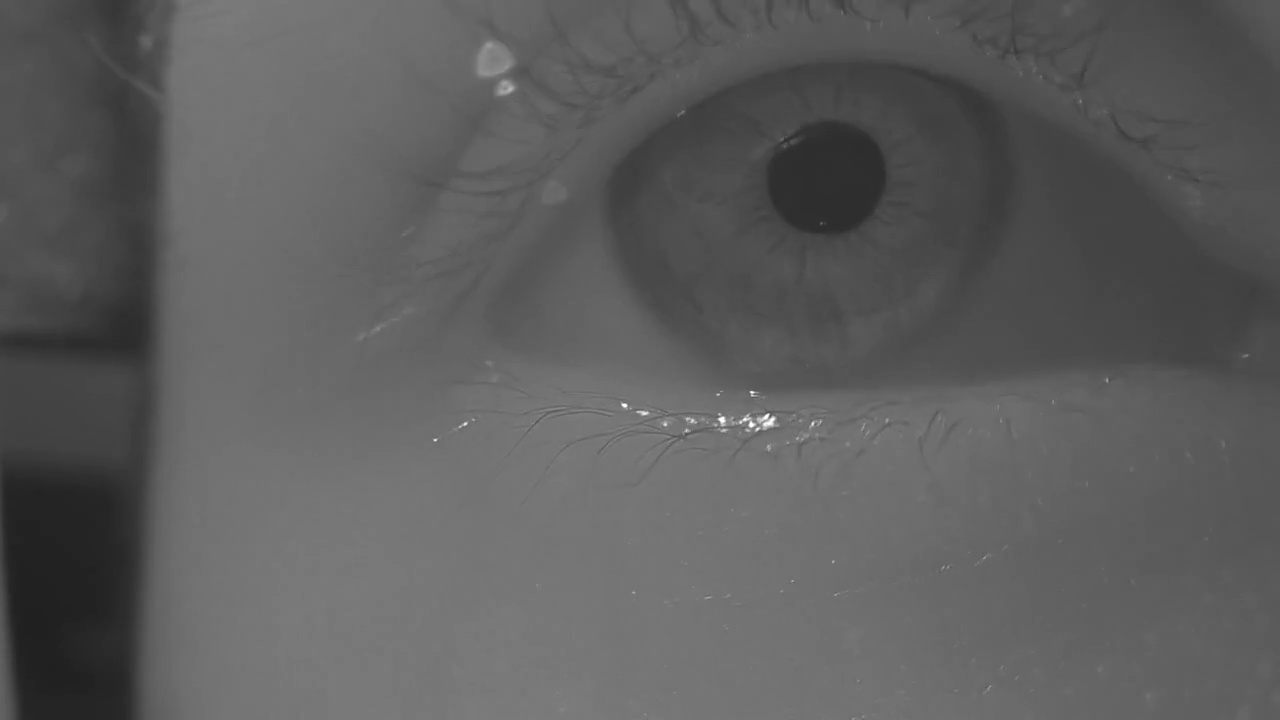pupil: (770, 122, 883, 234)
